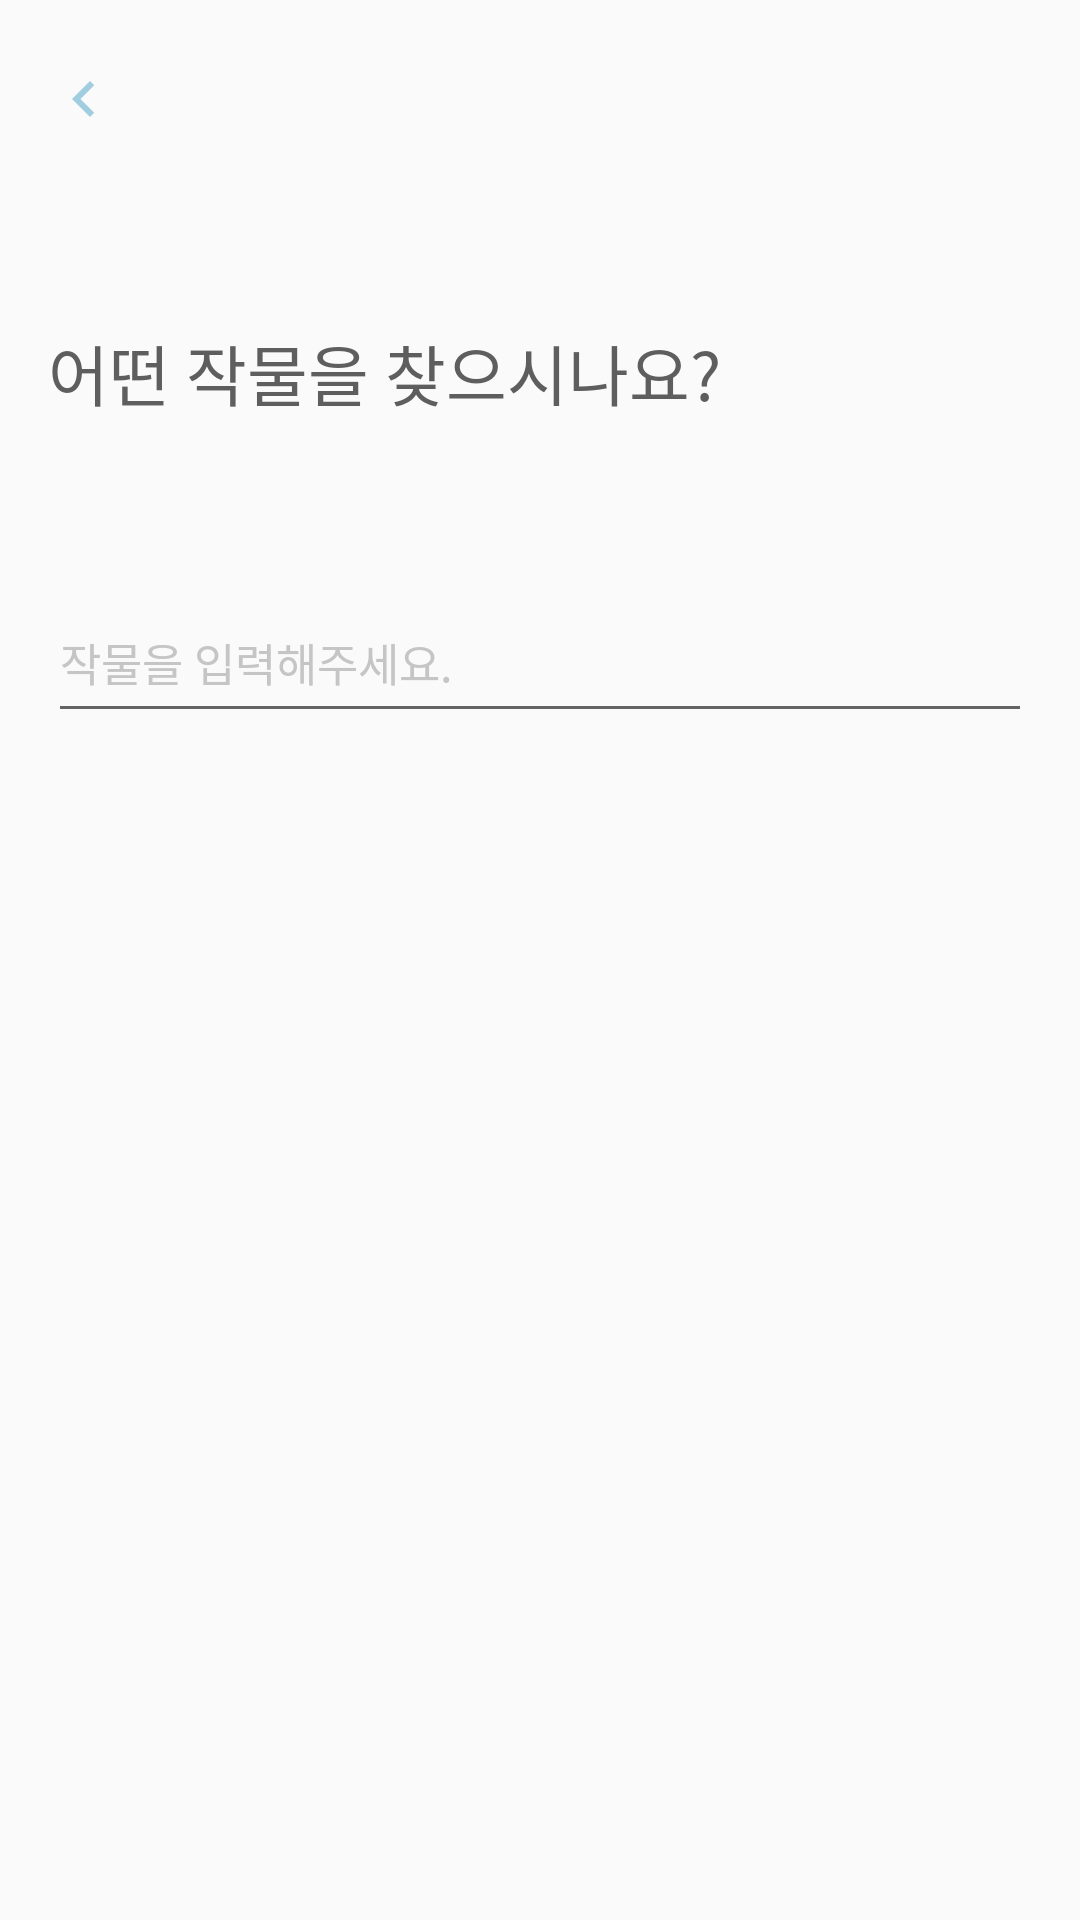

Screen size 1080 × 1920. Icon name, then its center in pixels as [x,y]:
back: [83,99]
